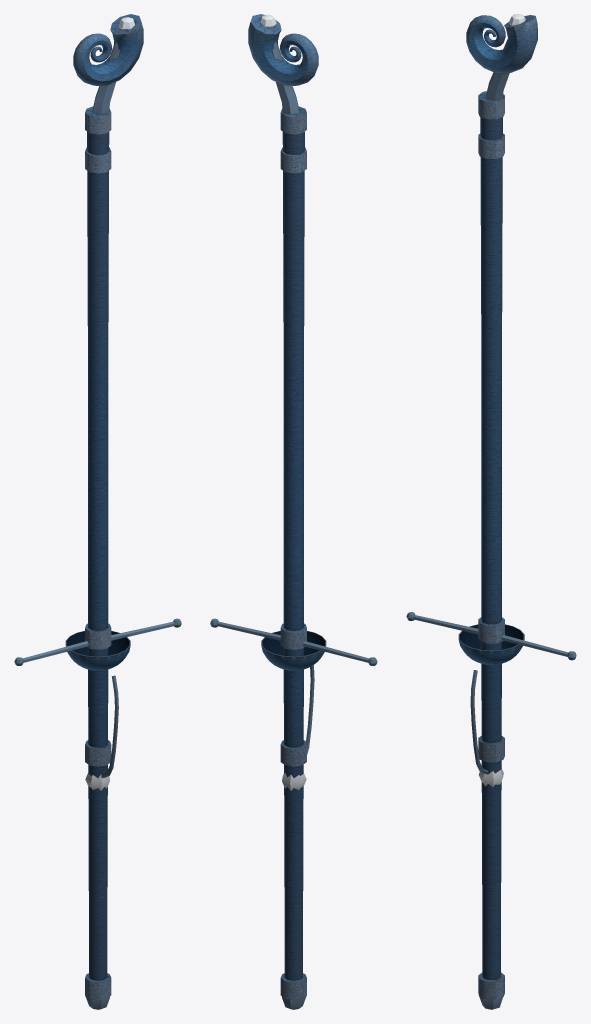
File: weapons_abyssal.glb
3 views of the same model, side by side, from view 1: azimuth 30°, elevation 25°; view 2: azimuth 150°, elevation 25°; view 3: azimuth 330°, elevation 25° (orthographic).
Visible parts, largest first — view 1: staff, blade; view 2: staff, blade; view 3: staff, blade.
Part boxes in pixels (x1,y1,x2,y2): staff: [73, 14, 143, 1009]; blade: [14, 618, 181, 790]; staff: [248, 14, 318, 1009]; blade: [210, 618, 377, 790]; staff: [466, 14, 537, 1009]; blade: [406, 612, 576, 786].
Size of the model in its own units: 0.3571 by 2.03 by 0.1342.
2 materials, 2 textured.
